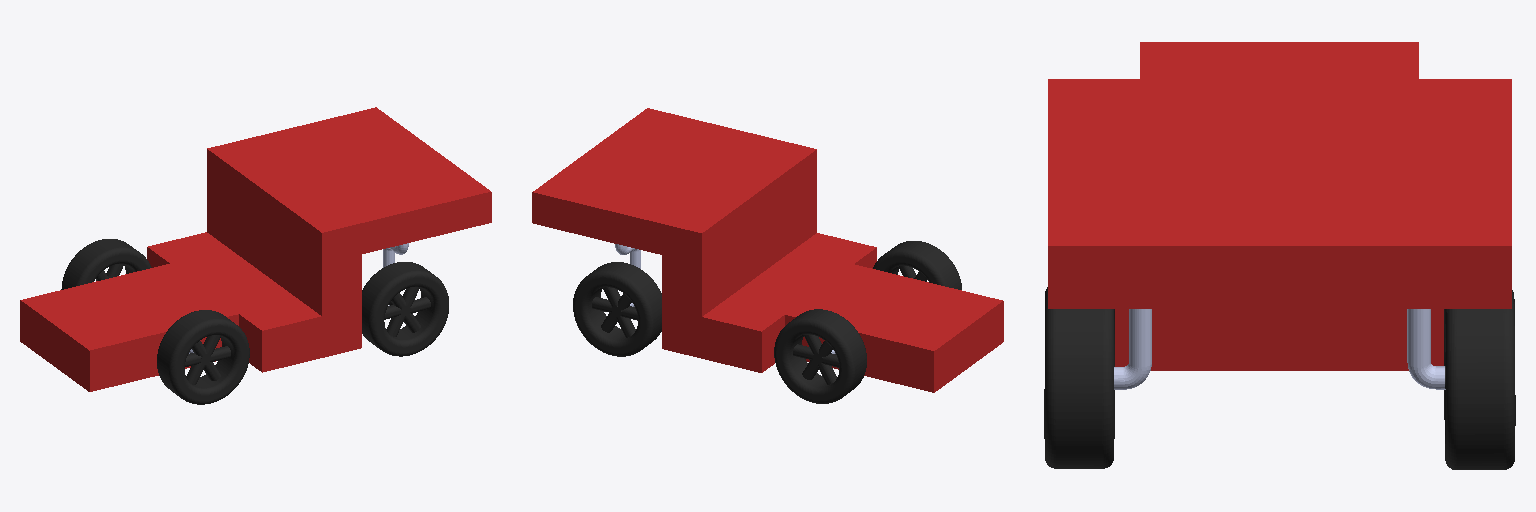
robot.urdf — car_pkg:
<?xml version="1.0" encoding="utf-8"?>
<!-- This URDF was automatically created by SolidWorks to URDF Exporter! Originally created by [author] ([email redacted]) 
     Commit Version: 1.6.0-1-g15f4949  Build Version: 1.6.7594.29634
     For more information, please see http://wiki.ros.org/sw_urdf_exporter -->
<robot
  name="car_pkg">
  <material
    name="rubber">
    <color
      rgba="0.2 0.2 0.2 1" />
  </material>
  <material
    name="red_metal">
    <color
      rgba="0.8 0.2 0.2 1" />
  </material>
  <link
    name="dummy_link">
  </link>
  <joint
    name="dummy_joint" type="fixed">
    <parent
      link="dummy_link" />
    <child
      link="base_link" />
  </joint>
  <link
    name="base_link">
    <inertial>
      <origin
        xyz="0.0424709579323588 0.141492510044649 2.27297672583814E-17"
        rpy="0 0 0" />
      <mass
        value="47.9977829804329" />
      <inertia
        ixx="1.37865067310813"
        ixy="-0.852319927205702"
        ixz="1.3813209492185E-16"
        iyy="3.52490374117594"
        iyz="4.80259459580282E-18"
        izz="3.16096143698967" />
    </inertial>
    <visual>
      <origin
        xyz="0 0 0"
        rpy="0 0 0" />
      <geometry>
        <mesh
          filename="package://car_pkg/meshes/base_link.STL" />
      </geometry>
      <material name="red_metal"/>
    </visual>
    <collision>
      <origin
        xyz="0 0 0"
        rpy="0 0 0" />
      <geometry>
        <mesh
          filename="package://car_pkg/meshes/base_link.STL" />
      </geometry>
    </collision>
  </link>
  <link
    name="rear_axle">
    <inertial>
      <origin
        xyz="-9.87520524763014E-17 -5.55111512312578E-17 6.93889390390723E-18"
        rpy="0 0 0" />
      <mass
        value="0.218796289474299" />
      <inertia
        ixx="1.76448267646549E-05"
        ixy="1.53412958881235E-18"
        ixz="-7.28417088826858E-19"
        iyy="0.00340839237003917"
        iyz="2.1160189804569E-35"
        izz="0.00340839237003917" />
    </inertial>
    <visual>
      <origin
        xyz="0 0 0"
        rpy="0 0 0" />
      <geometry>
        <mesh
          filename="package://car_pkg/meshes/rear_axle.STL" />
      </geometry>
      <material
        name="">
        <color
          rgba="0.792156862745098 0.819607843137255 0.933333333333333 1" />
      </material>
    </visual>
    <collision>
      <origin
        xyz="0 0 0"
        rpy="0 0 0" />
      <geometry>
        <mesh
          filename="package://car_pkg/meshes/rear_axle.STL" />
      </geometry>
    </collision>
  </link>
  <joint
    name="rear_joint"
    type="continuous">
    <origin
      xyz="-0.2286 0 0.0508"
      rpy="-2.8204 0 1.5708" />
    <parent
      link="base_link" />
    <child
      link="rear_axle" />
    <axis
      xyz="1 0 0" />
    <limit
      effort="1000"
      velocity="1000" />
  </joint>
  <transmission name="rear_trans">
    <type>transmission_interface/SimpleTransmission</type>
    <joint name="rear_joint">
      <hardwareInterface>hardware_interface/VelocityJointInterface</hardwareInterface>
    </joint>
    <actuator name="rear_motor">
      <mechanicalReduction>1</mechanicalReduction>
    </actuator>
  </transmission>
  <link
    name="r_rear_wheel">
    <inertial>
      <origin
        xyz="0.0382499999999987 -3.46944695195361E-17 2.58126853225349E-15"
        rpy="0 0 0" />
      <mass
        value="2.45180547910906" />
      <inertia
        ixx="0.0127525390614078"
        ixy="1.86302887689269E-35"
        ixz="5.43621548791774E-17"
        iyy="0.00756256948225711"
        iyz="2.06756332028389E-37"
        izz="0.00756256948225711" />
    </inertial>
    <visual>
      <origin
        xyz="0.07 -0.1 -0.1"
        rpy="0 -1.56 0" />
      <geometry>
        <mesh
          filename="package://car_pkg/meshes/visual_tyre.STL" scale="0.001 0.001 0.001"/>
      </geometry>
      <material name="rubber"/>
    </visual>
    <collision>
      <origin
        xyz="0 0 0"
        rpy="0 0 0" />
      <geometry>
        <mesh
          filename="package://car_pkg/meshes/r_rear_wheel.STL" />
      </geometry>
    </collision>
  </link>
  <joint
    name="r_rear_joint"
    type="fixed">
    <origin
      xyz="-0.1778 0 0"
      rpy="1.892 0 3.1416" />
    <parent
      link="rear_axle" />
    <child
      link="r_rear_wheel" />
    <axis
      xyz="0 0 0" />
  </joint>
  <link
    name="l_rear_wheel">
    <inertial>
      <origin
        xyz="0.03825 6.93889390390723E-17 4.24660306919122E-15"
        rpy="0 0 0" />
      <mass
        value="2.45180547910906" />
      <inertia
        ixx="0.0127525390614078"
        ixy="-5.84073755564824E-35"
        ixz="-1.79349284331023E-17"
        iyy="0.00756256948225711"
        iyz="1.3978411939278E-35"
        izz="0.00756256948225711" />
    </inertial>
    <visual>
      <origin
        xyz="0.07 -0.1 -0.1"
        rpy="0 -1.56 0" />
      <geometry>
        <mesh
          filename="package://car_pkg/meshes/visual_tyre.STL" scale="0.001 0.001 0.001"/>
      </geometry>
      <material name="rubber"/>
    </visual>
    <collision>
      <origin
        xyz="0 0 0"
        rpy="0 0 0" />
      <geometry>
        <mesh
          filename="package://car_pkg/meshes/l_rear_wheel.STL" />
      </geometry>
    </collision>
  </link>
  <joint
    name="l_rear_joint"
    type="fixed">
    <origin
      xyz="0.1778 0 0"
      rpy="-1.892 0 0" />
    <parent
      link="rear_axle" />
    <child
      link="l_rear_wheel" />
    <axis
      xyz="0 0 0" />
  </joint>
  <link
    name="left_axle">
    <inertial>
      <origin
        xyz="0.0388634709790775 4.44089209850063E-16 -0.101740086144568"
        rpy="0 0 0" />
      <mass
        value="0.154885786948962" />
      <inertia
        ixx="0.00066373237899345"
        ixy="7.75674967024387E-19"
        ixz="-0.000115977221210615"
        iyy="0.000767589430522454"
        iyz="8.92592992650556E-19"
        izz="0.000116347815817503" />
    </inertial>
    <visual>
      <origin
        xyz="0 0 0"
        rpy="0 0 0" />
      <geometry>
        <mesh
          filename="package://car_pkg/meshes/left_axle.STL" />
      </geometry>
      <material
        name="">
        <color
          rgba="0.792156862745098 0.819607843137255 0.933333333333333 1" />
      </material>
    </visual>
    <collision>
      <origin
        xyz="0 0 0"
        rpy="0 0 0" />
      <geometry>
        <mesh
          filename="package://car_pkg/meshes/left_axle.STL" />
      </geometry>
    </collision>
  </link>
  <joint
    name="left_joint"
    type="revolute">
    <origin
      xyz="0.2794 0.2159 0.0381"
      rpy="-3.1416 0 -1.5708" />
    <parent
      link="base_link" />
    <child
      link="left_axle" />
    <axis
      xyz="0 0 1" />
    <limit
      lower="-1.0"
      upper="1.0"
      effort="1000"
      velocity="10" />
  </joint>
  <transmission name="front_left_steering">
    <type>transmission_interface/SimpleTransmission</type>
    <joint name="left_joint">
      <hardwareInterface>hardware_interface/PositionJointInterface</hardwareInterface>
    </joint>
    <actuator name="front_left_steer">
      <mechanicalReduction>1</mechanicalReduction>
    </actuator>
  </transmission>
  <link
    name="l_front_wheel">
    <inertial>
      <origin
        xyz="0.00014999999999904 -5.48866507799062E-15 1.49880108324396E-15"
        rpy="0 0 0" />
      <mass
        value="2.45180547910906" />
      <inertia
        ixx="0.0127525390614078"
        ixy="2.35098870164458E-35"
        ixz="-1.79392745163191E-17"
        iyy="0.00756256948225711"
        iyz="-1.26533746661757E-35"
        izz="0.00756256948225711" />
    </inertial>
    <visual>
      <origin
        xyz="0.04 -0.1 -0.1"
        rpy="0 -1.56 0" />
      <geometry>
        <mesh
          filename="package://car_pkg/meshes/visual_tyre.STL" scale="0.001 0.001 0.001"/>
      </geometry>
      <material name="rubber"/>
    </visual>
    <collision>
      <origin
        xyz="0 0 0"
        rpy="0 0 0" />
      <geometry>
        <mesh
          filename="package://car_pkg/meshes/l_front_wheel.STL" />
      </geometry>
    </collision>
  </link>
  <joint
    name="l_front_joint"
    type="continuous">
    <origin
      xyz="0 0 -0.0127"
      rpy="-1.5708 0 3.1416" />
    <parent
      link="left_axle" />
    <child
      link="l_front_wheel" />
    <axis
      xyz="1 0 0" />
  </joint>
  <link
    name="right_axle">
    <inertial>
      <origin
        xyz="0.038863470979077 9.99200722162641E-16 0.101740086144568"
        rpy="0 0 0" />
      <mass
        value="0.154885786948962" />
      <inertia
        ixx="0.00066373237899345"
        ixy="9.09713385351119E-19"
        ixz="0.000115977221210617"
        iyy="0.000767589430522455"
        iyz="-5.64228176111916E-18"
        izz="0.000116347815817504" />
    </inertial>
    <visual>
      <origin
        xyz="0 0 0"
        rpy="0 0 0" />
      <geometry>
        <mesh
          filename="package://car_pkg/meshes/right_axle.STL" />
      </geometry>
      <material
        name="">
        <color
          rgba="0.792156862745098 0.819607843137255 0.933333333333333 1" />
      </material>
    </visual>
    <collision>
      <origin
        xyz="0 0 0"
        rpy="0 0 0" />
      <geometry>
        <mesh
          filename="package://car_pkg/meshes/right_axle.STL" />
      </geometry>
    </collision>
  </link>
  <joint
    name="right_joint"
    type="revolute">
    <origin
      xyz="0.2794 -0.2159 0.0381"
      rpy="0 0 1.5562" />
    <parent
      link="base_link" />
    <child
      link="right_axle" />
    <axis
      xyz="0 0 1" />
    <limit
      lower="-1.0"
      upper="1.0"
      effort="1000"
      velocity="1" />
  </joint>
  <transmission name="front_right_steering">
    <type>transmission_interface/SimpleTransmission</type>
    <joint name="right_joint">
      <hardwareInterface>hardware_interface/PositionJointInterface</hardwareInterface>
    </joint>
    <actuator name="front_right_steer">
      <mechanicalReduction>1</mechanicalReduction>
    </actuator>
  </transmission>
  <link
    name="r_front_wheel">
    <inertial>
      <origin
        xyz="0.000149999999999928 -6.93889390390723E-18 0"
        rpy="0 0 0" />
      <mass
        value="2.45180547910906" />
      <inertia
        ixx="0.0127525390614078"
        ixy="1.86643709927485E-18"
        ixz="6.32157629194829E-17"
        iyy="0.00756256948225712"
        iyz="1.46182666572821E-19"
        izz="0.00756256948225712" />
    </inertial>
    <visual>
      <origin
        xyz="0.04 -0.1 -0.1"
        rpy="0 -1.56 0" />
      <geometry>
        <mesh
          filename="package://car_pkg/meshes/visual_tyre.STL" scale="0.001 0.001 0.001"/>
      </geometry>
      <material name="rubber"/>
    </visual>
    <collision>
      <origin
        xyz="0 0 0"
        rpy="0 0 0" />
      <geometry>
        <mesh
          filename="package://car_pkg/meshes/r_front_wheel.STL" />
      </geometry>
    </collision>
  </link>
  <joint
    name="r_front_joint"
    type="continuous">
    <origin
      xyz="0 0 0.0127"
      rpy="1.6035 0 -3.1416" />
    <parent
      link="right_axle" />
    <child
      link="r_front_wheel" />
    <axis
      xyz="1 0 0" />
  </joint>
</robot>

--- What the picture shows (computed from the rendered views, not written in the file) ---
The picture shows the robot from 3 angles, left to right: view 1: azimuth 30°, elevation 25°; view 2: azimuth 150°, elevation 25°; view 3: azimuth 270°, elevation 25°; orthographic projection.
Robot: car_pkg — 9 links, 8 joints (2 revolute, 3 continuous, 3 fixed); root link dummy_link; default pose: every joint at zero.
Visible links, largest first — view 1: base_link, r_rear_wheel, r_front_wheel, l_rear_wheel; view 2: base_link, l_rear_wheel, l_front_wheel, r_rear_wheel; view 3: base_link, l_front_wheel, r_front_wheel, left_axle, right_axle.
Link boxes in pixels (x1,y1,x2,y2): base_link: (20,107,491,391); r_rear_wheel: (157,310,249,404); r_front_wheel: (362,262,448,356); l_rear_wheel: (61,239,151,289); base_link: (532,108,1003,392); l_rear_wheel: (774,309,866,403); l_front_wheel: (573,262,661,356); r_rear_wheel: (873,241,961,289); base_link: (1048,42,1511,370); l_front_wheel: (1444,290,1515,469); r_front_wheel: (1044,287,1114,468); left_axle: (1407,309,1445,389); right_axle: (1114,309,1151,389).
Size in the robot's own frame: 0.9652 by 0.5153 by 0.3572 metres.
8 mesh visuals loaded from 5 distinct referenced files (5 binary STL).